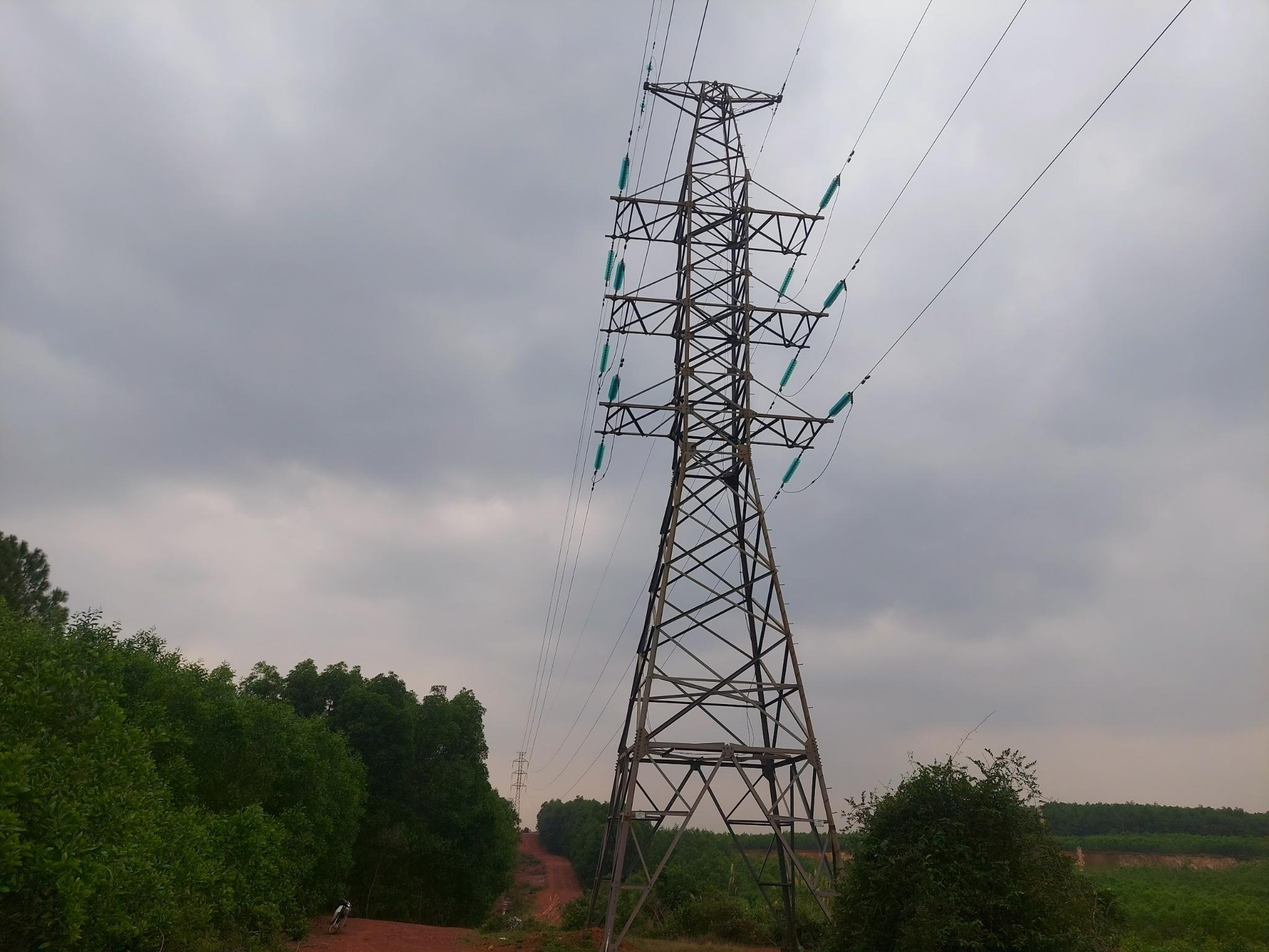tower: (576, 64, 859, 952)
